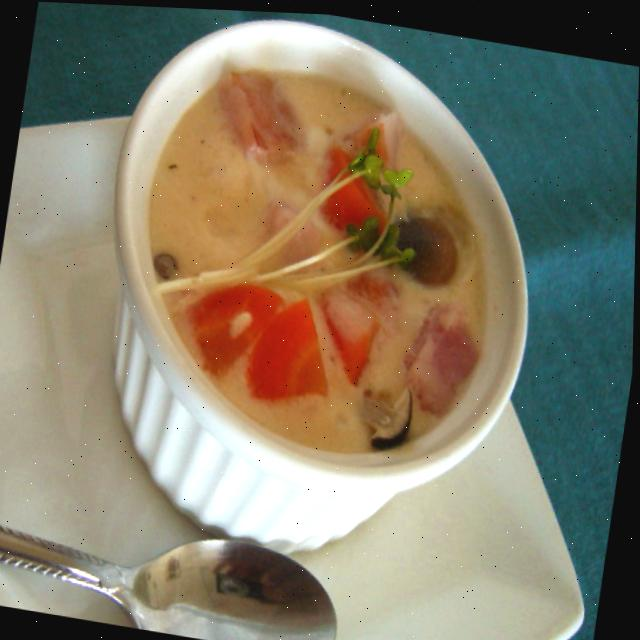鸡蛋料理: (61, 2, 581, 551)
